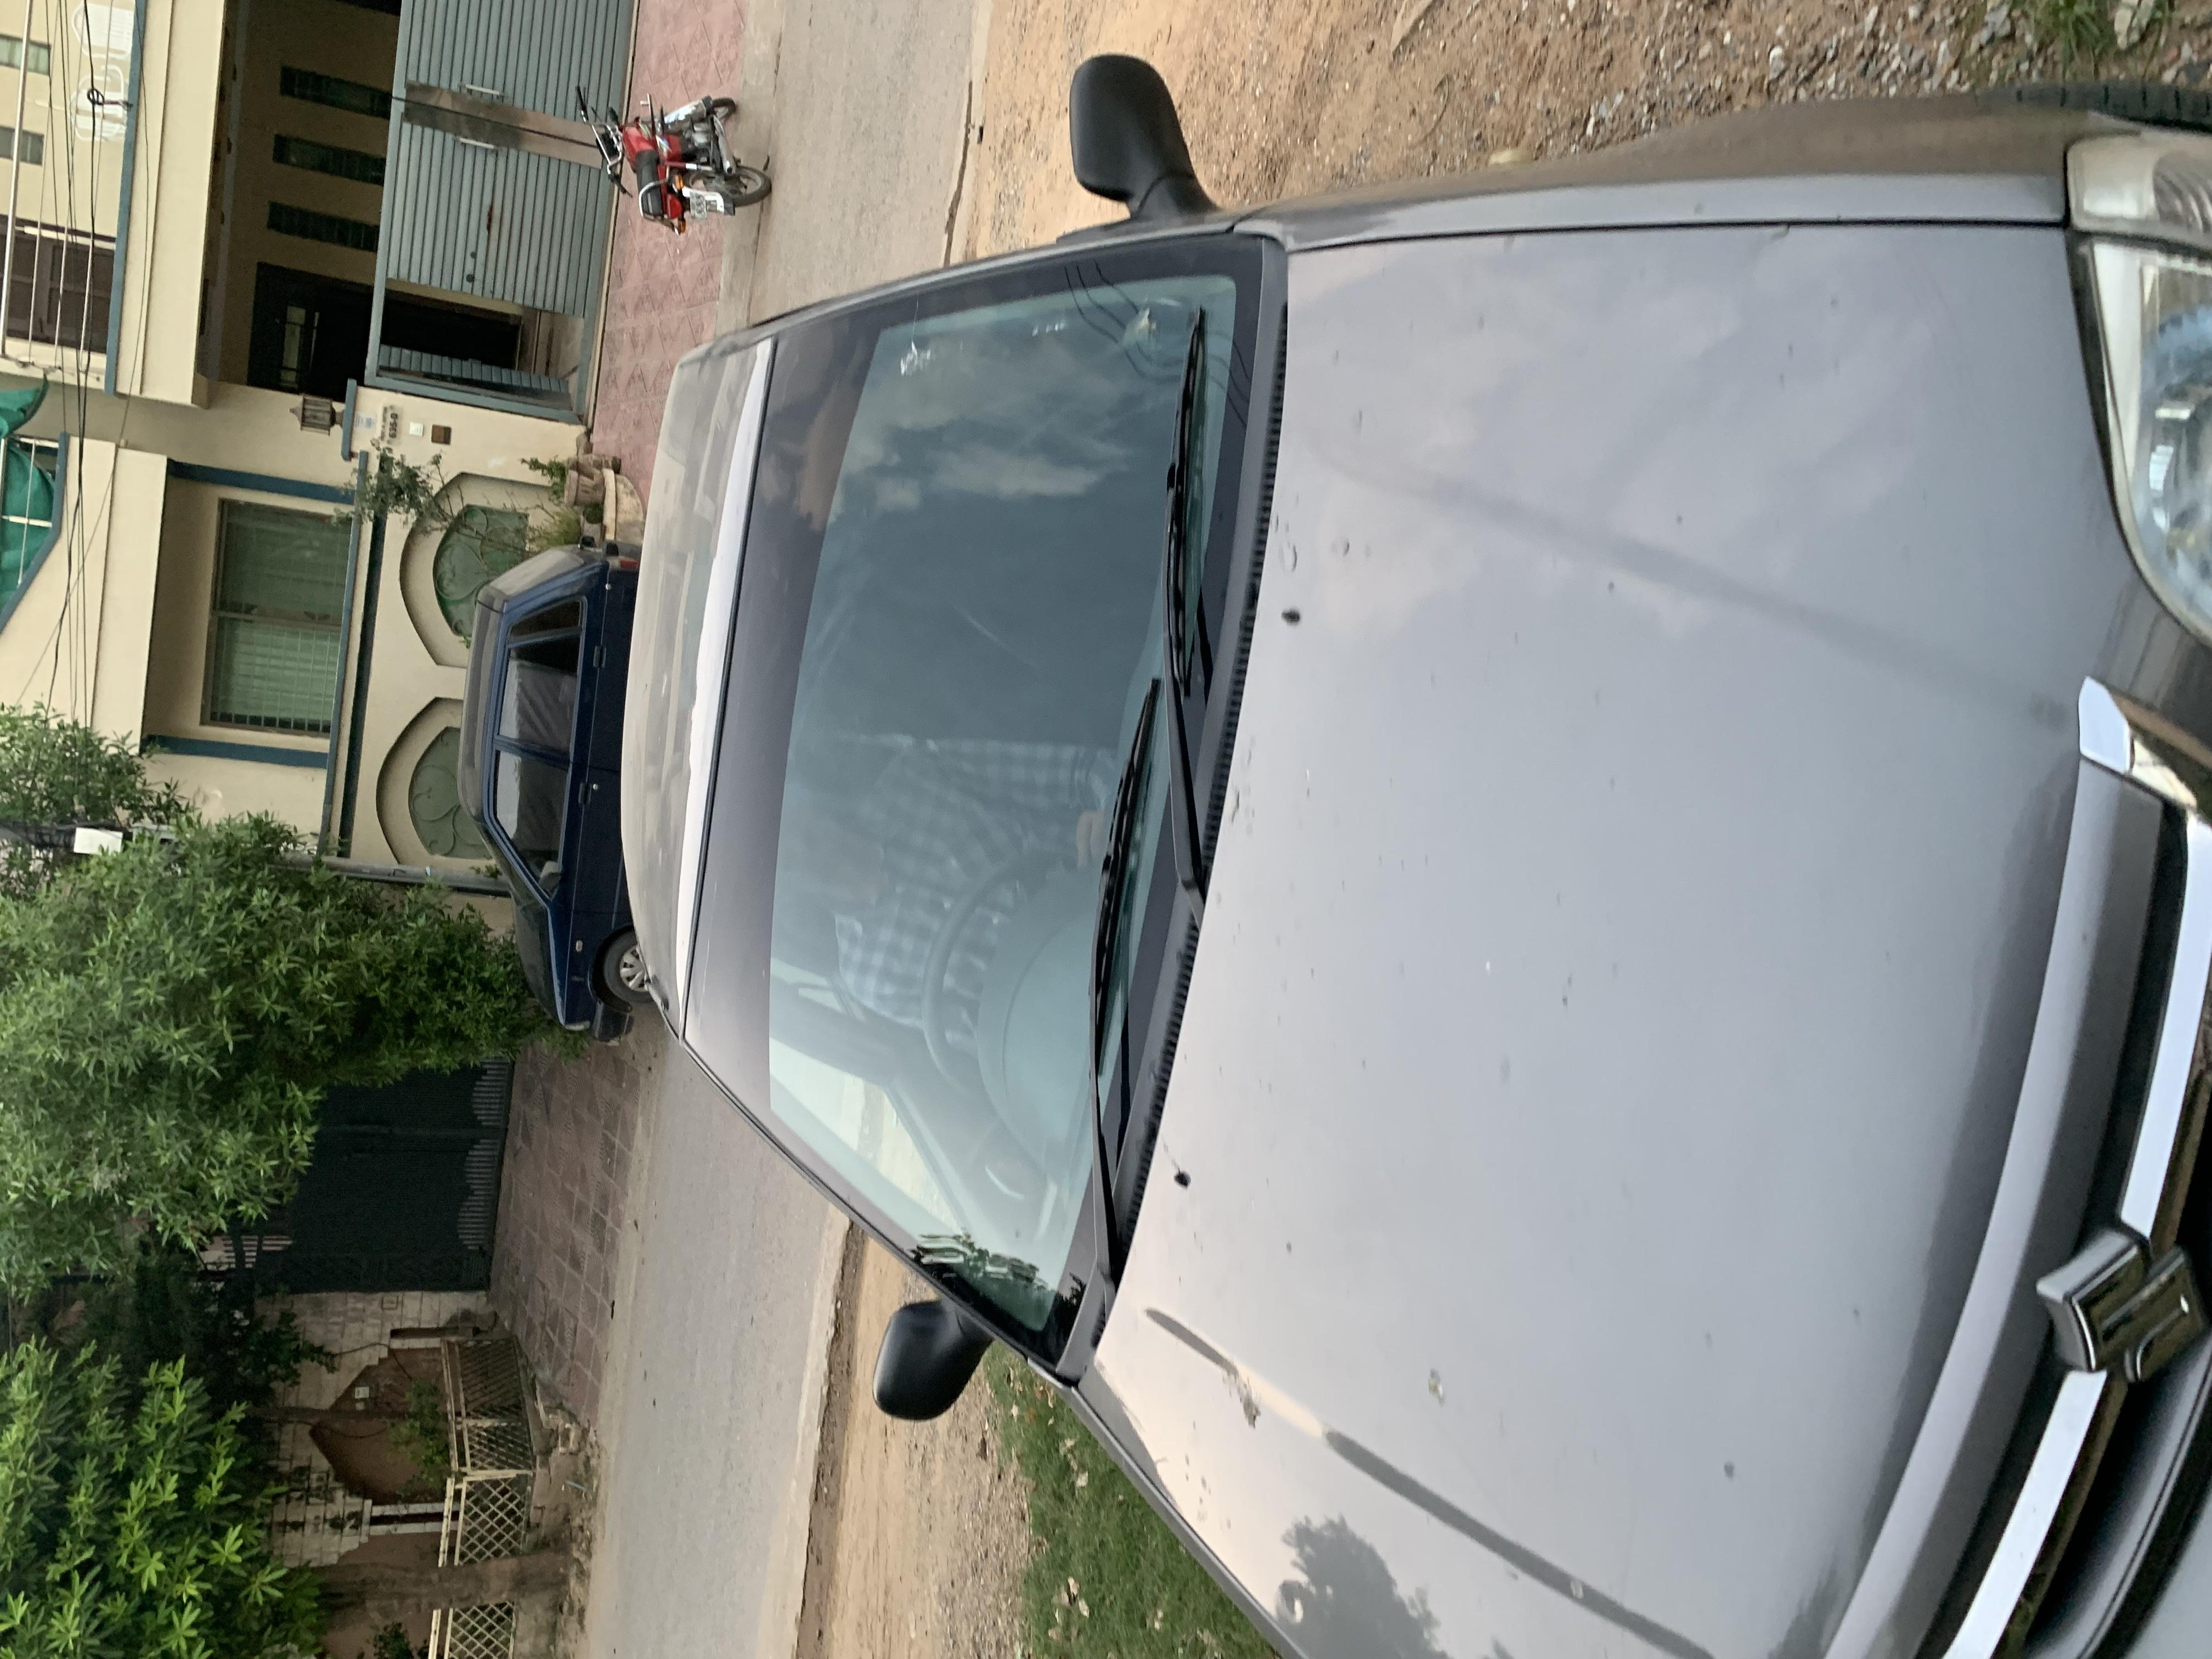windshield: (368, 502, 1925, 958)
